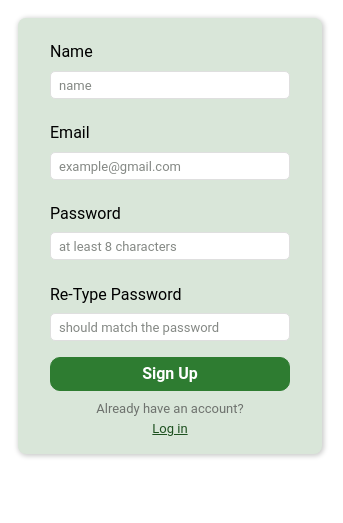
Test: Loading Sign Up Form › Email Is Invalid
The image size is (343, 523).
Type "x" into the field labelled "Email" at (170, 166), box [50,152,290,180]
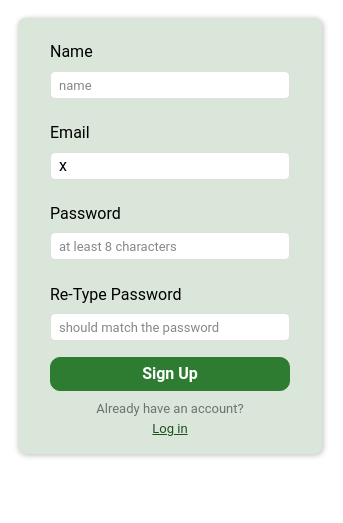
Click the button at (170, 374), box [50,357,290,391]
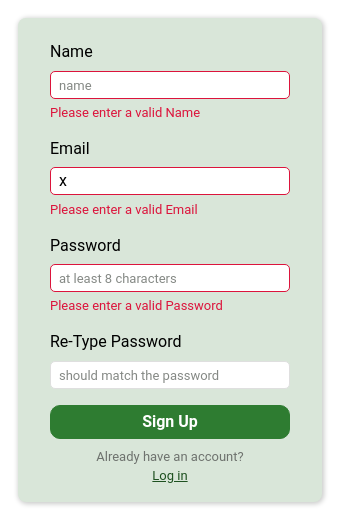
Check: the text "Please enter a valid Email" is shown, box [50,202,198,217]
